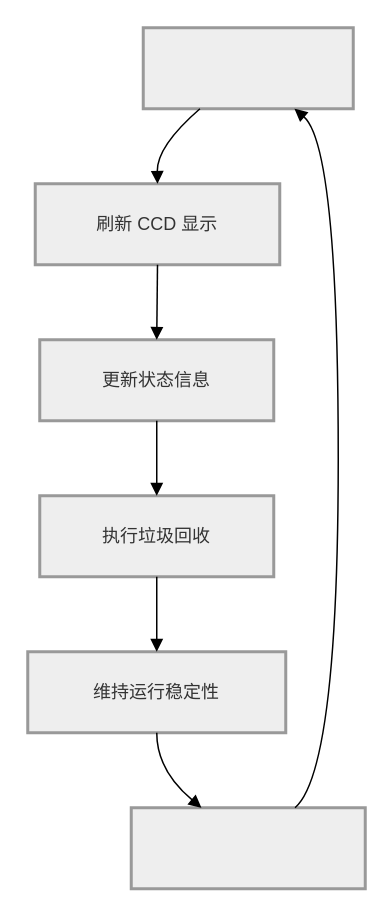
This 392x915 diagram has some shape labels left out. The centre of each missing label's shape, as x and y in pixels:
主循环运行: pixel 247 68
保留扩展接口: pixel 247 848
